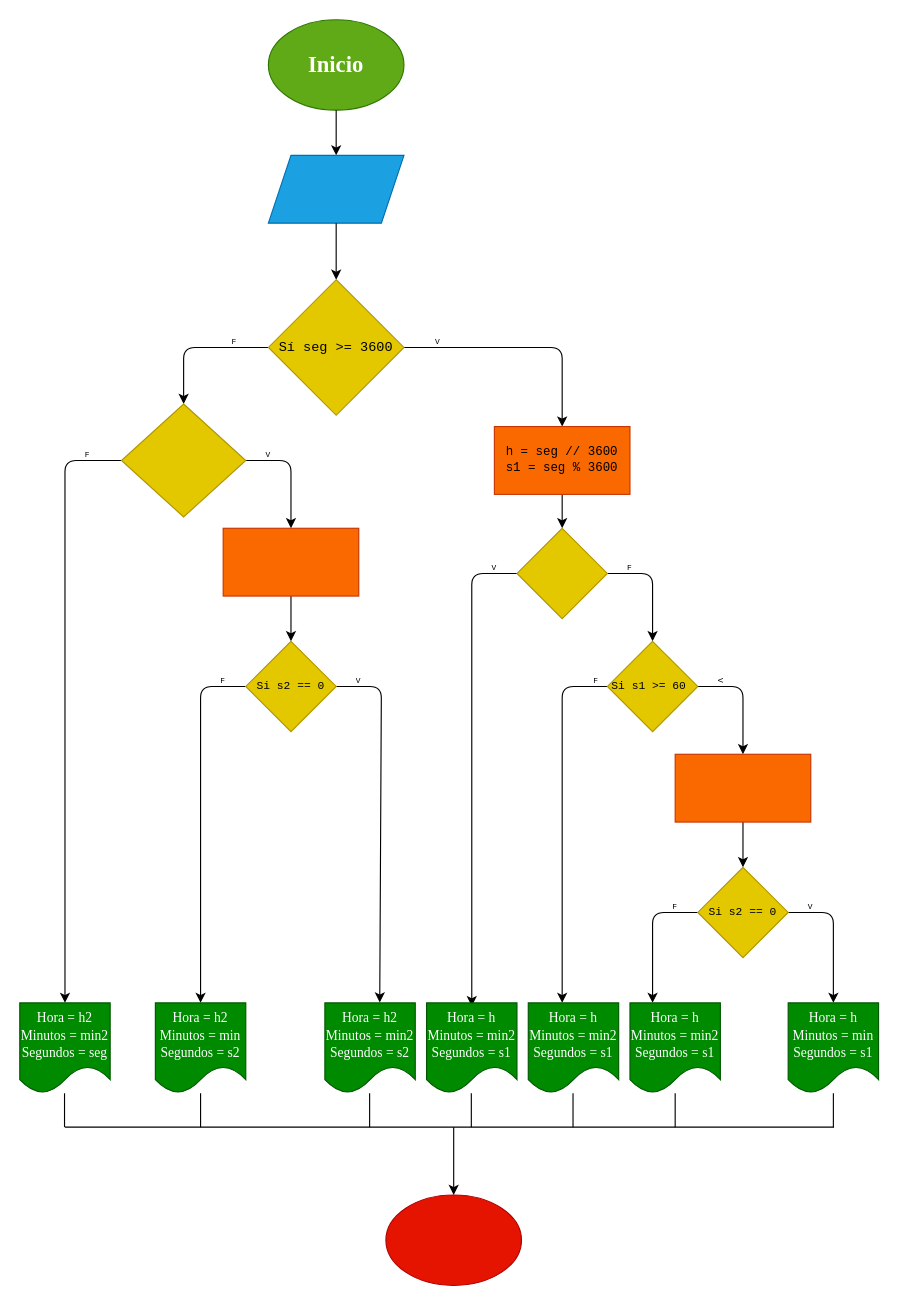
This 898x1305 diagram has some shape labels left out. The shapes that lost their labels are listed below. From the top down, each one's centre as x and y in pixels, then its label:
(x=335, y=188): seg h2=min2=0
(x=183, y=460): Si seg < 3600 y seg >= 60
(x=290, y=561): min = seg // 60 s2 = seg % 60
(x=561, y=573): Si s1 == 0
(x=742, y=787): min = s1 // 60 s2 = s1 % 60
(x=453, y=1239): Fin
